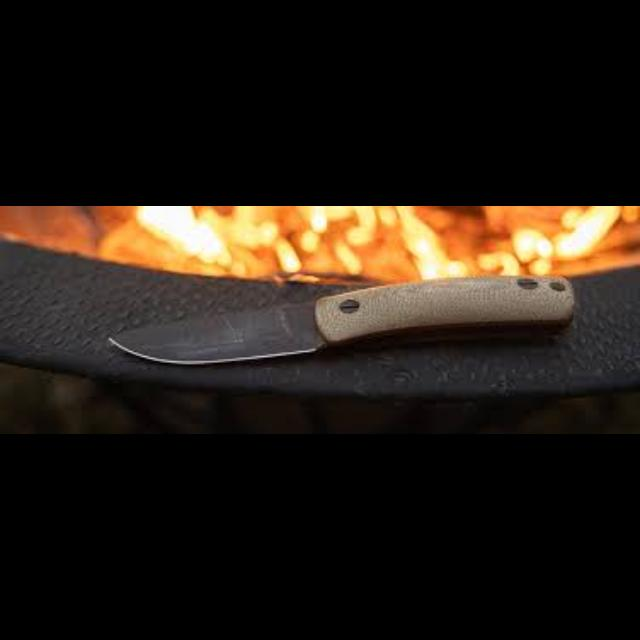Knife: (107, 272, 575, 364)
